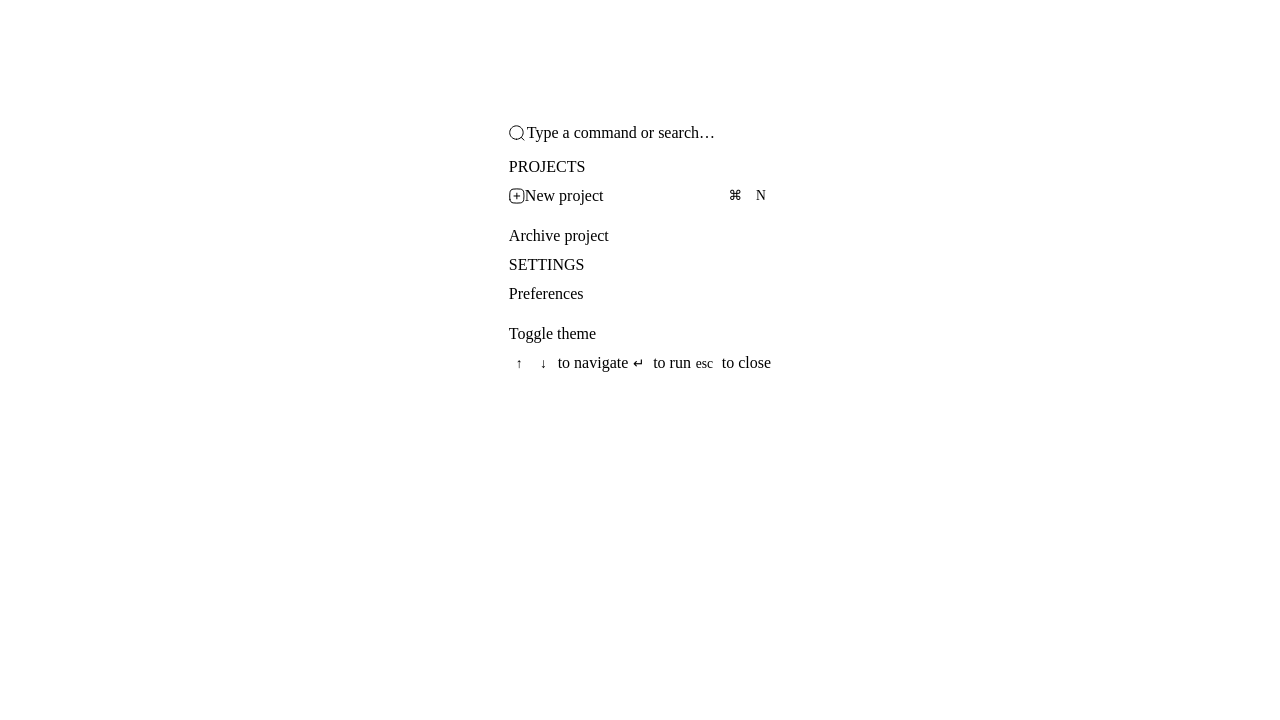
it: CommandPalette › moves with arrows past disabled commands and shows the empty state
Press Arrowdown Arrowdown Arrowdown
Type "zzzz" into the dropdown at [648, 133], box [525, 108, 771, 158]
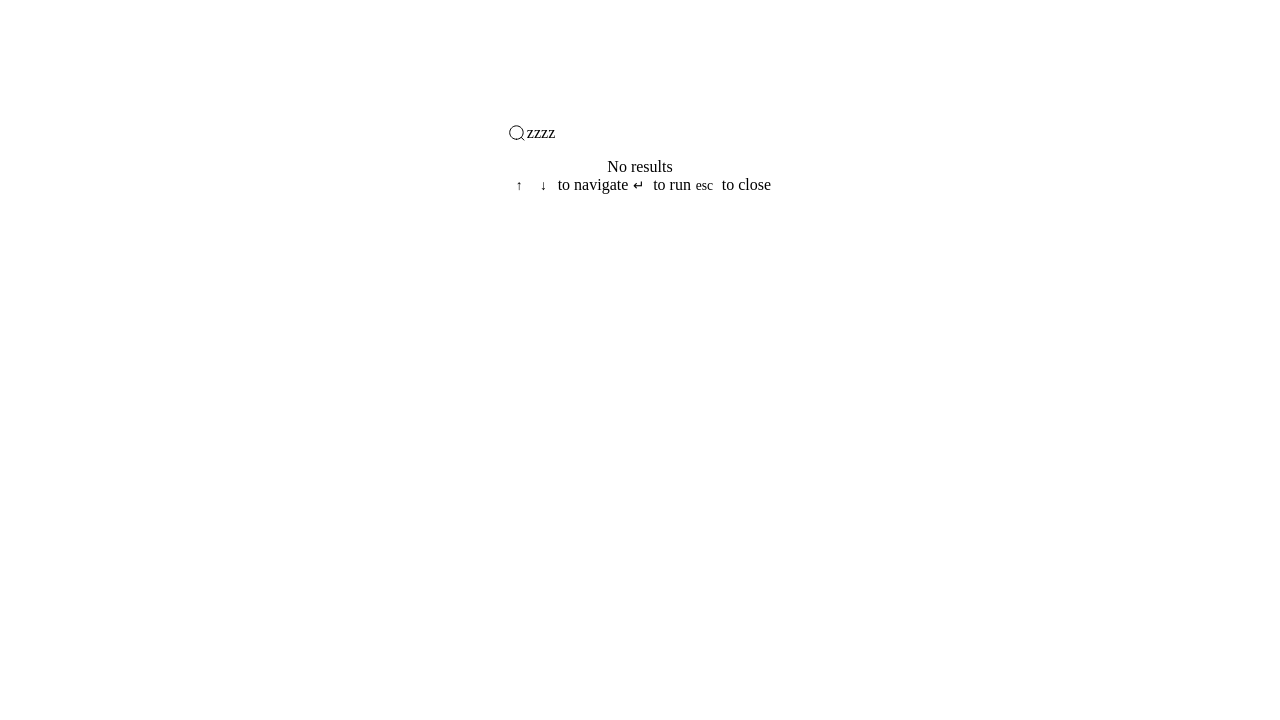
Result: the text "No results" is shown at [607, 158, 673, 175]
